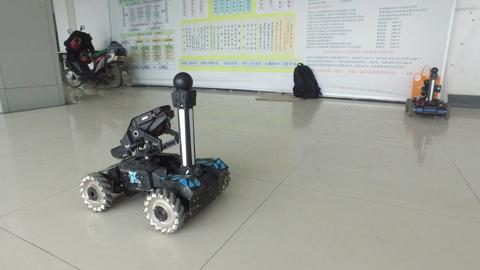bag: (285, 60, 331, 106)
chariot: (74, 73, 240, 237), (401, 63, 454, 126)
